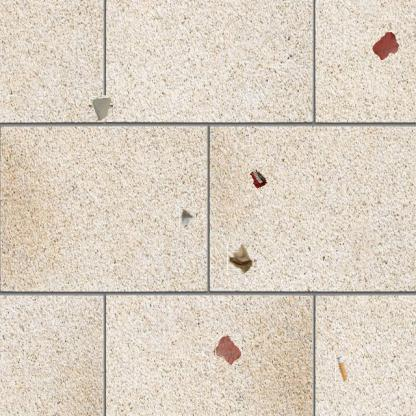dirty: (226, 245, 256, 274), (88, 95, 114, 121), (246, 166, 268, 190), (177, 208, 198, 229), (335, 354, 348, 382)
liquid: (213, 335, 243, 365), (370, 30, 400, 60)
